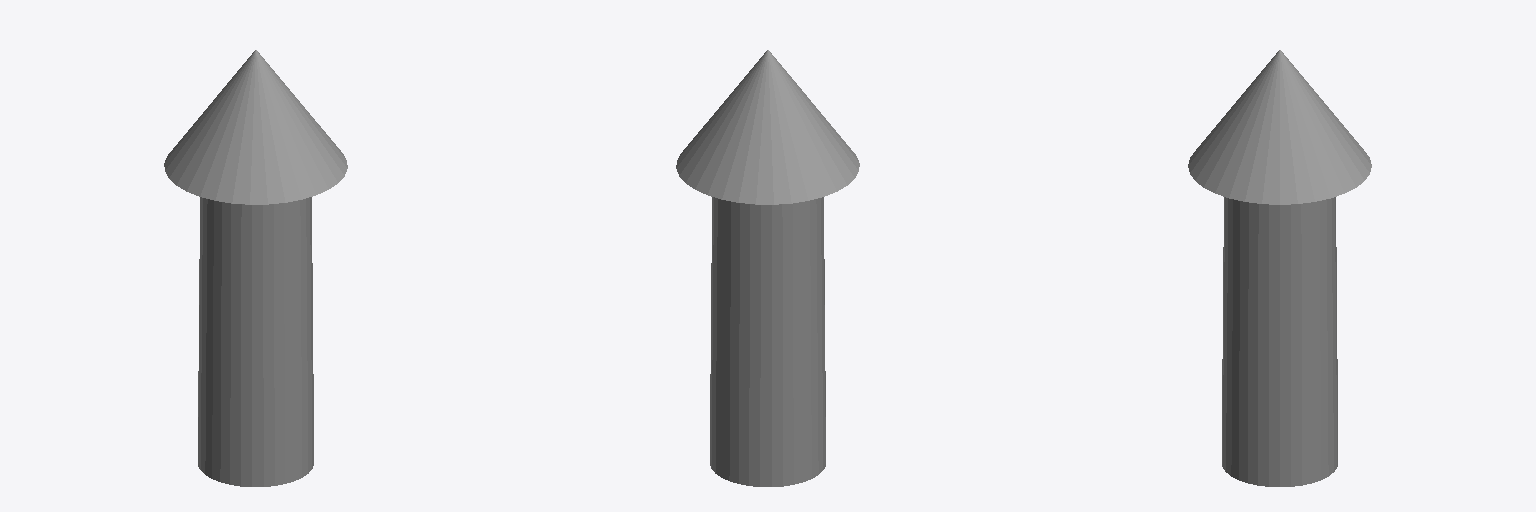
Rendered from tower.obj.
3 renders of one model, left to right at view 1: azimuth 30°, elevation 25°; view 2: azimuth 150°, elevation 25°; view 3: azimuth 270°, elevation 25°, orthographic.
Parts seen in each view (by area): view 1: Vez_Cone.002; view 2: Vez_Cone.002; view 3: Vez_Cone.002.
Boxes of the visible parts, x1,y1,x2,y2 form: Vez_Cone.002: [164, 50, 347, 486]; Vez_Cone.002: [676, 50, 859, 486]; Vez_Cone.002: [1188, 50, 1371, 486].
Bounding box in the file's own units: 3.81 × 9.45 × 3.81.